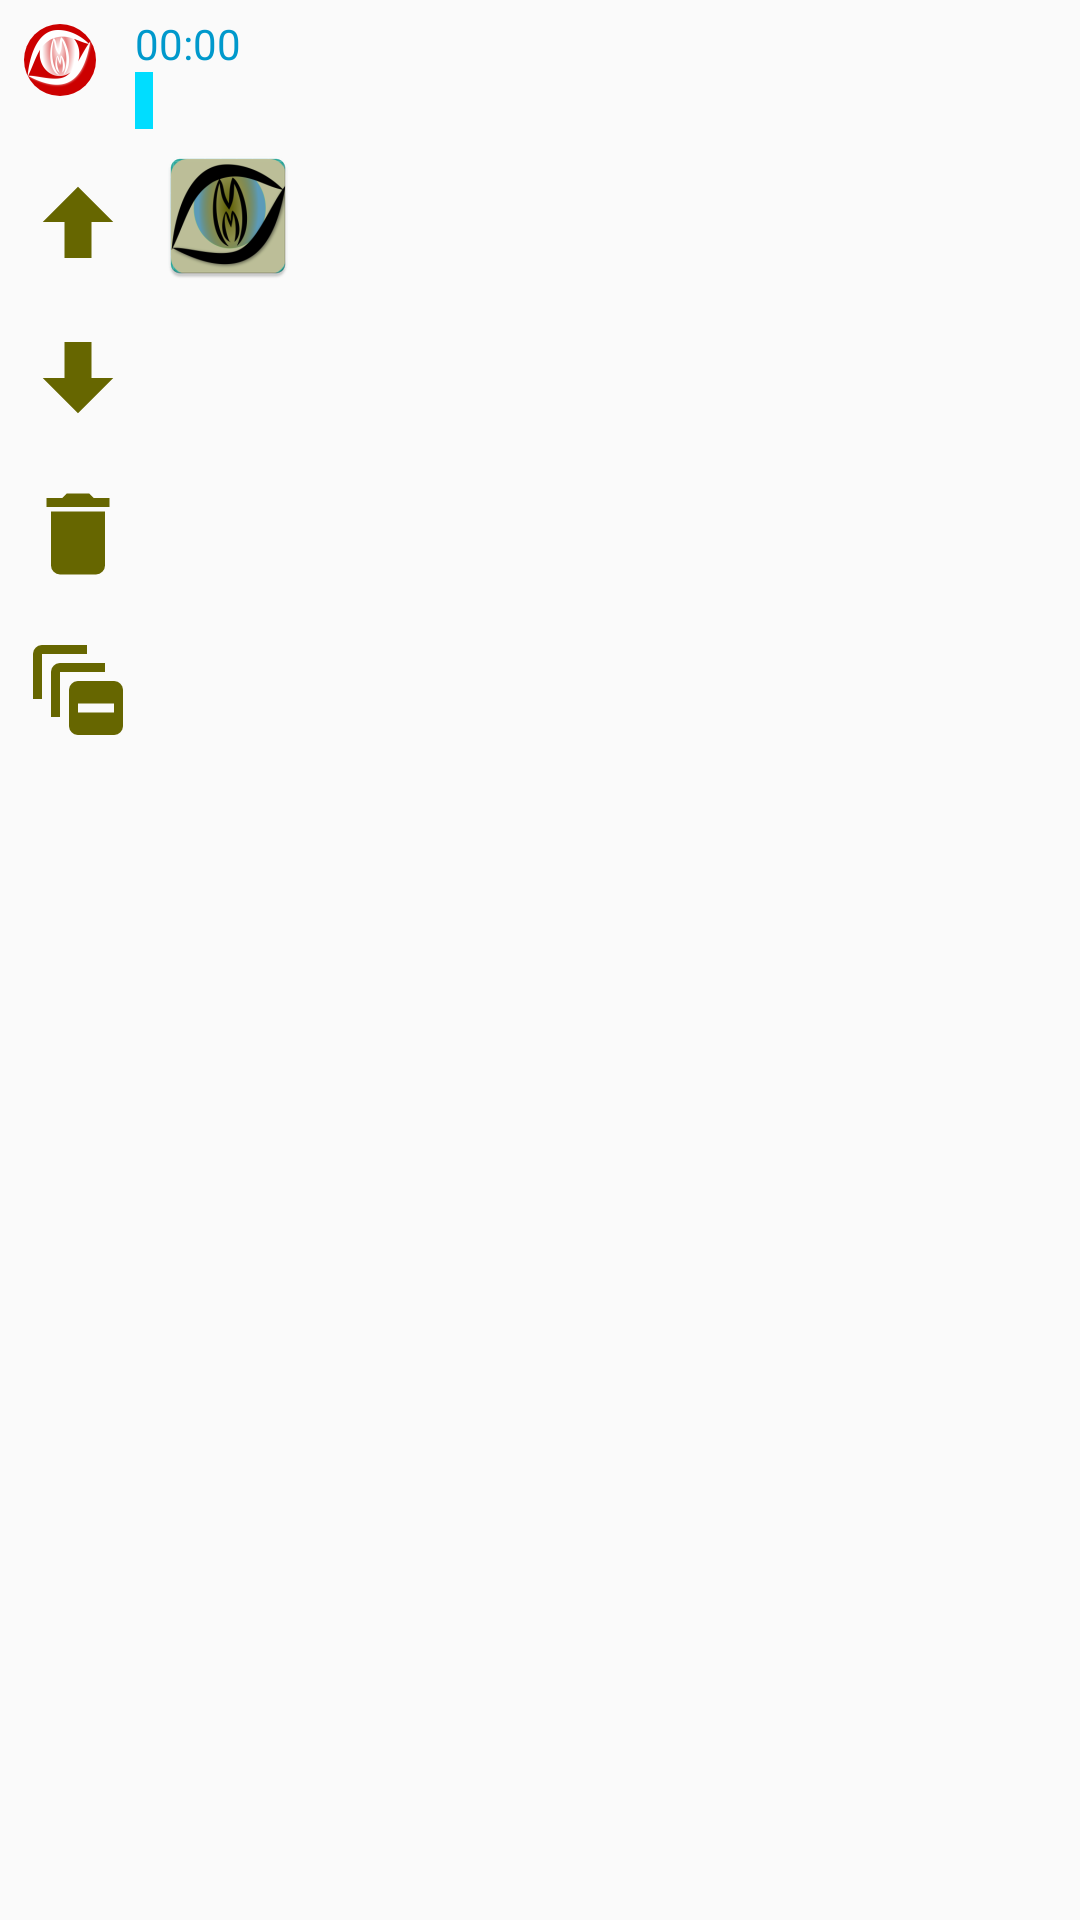

Locate icon controls on the screen. Image size 1080 × 1920, boxes as (x1, y1, x2, y2).
arrow down: (43, 342, 113, 413)
arrow up: (43, 187, 113, 258)
collapse all: (33, 645, 123, 735)
delete: (46, 493, 110, 575)
